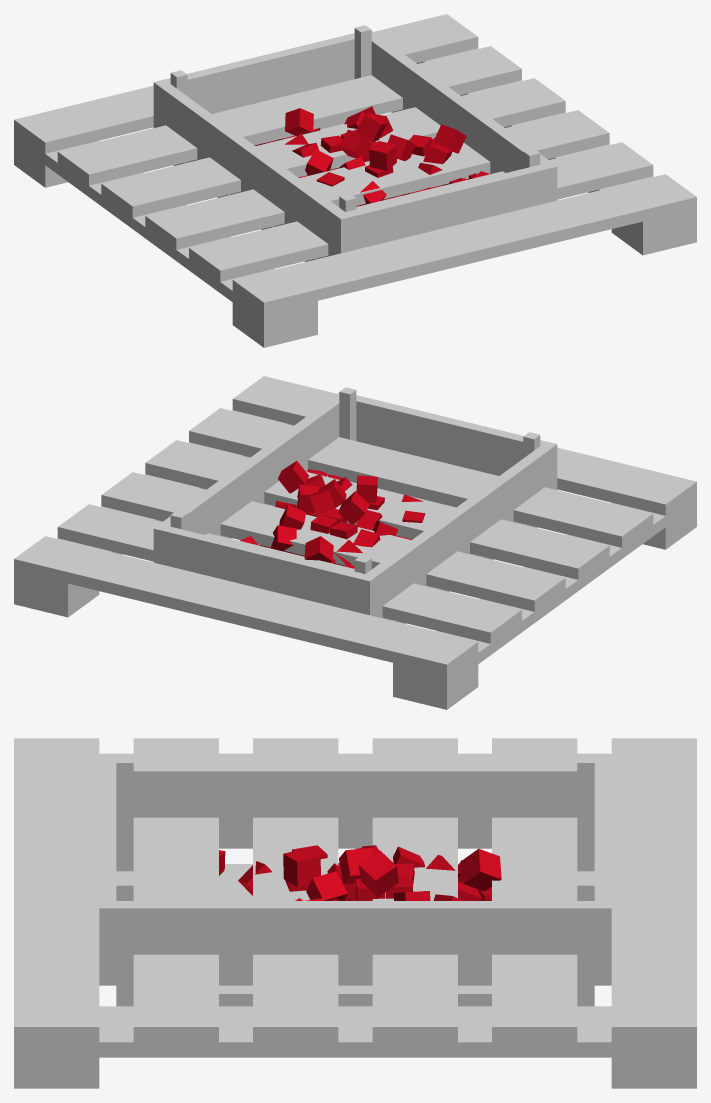
Rendered from crate_type6_7.fbx.
3 views of the same model, one above another, from view 1: azimuth 30°, elevation 25°; view 2: azimuth 150°, elevation 25°; view 3: azimuth 270°, elevation 25° (orthographic). The views are drawn at different scales.
Visible parts, largest first — view 1: Pallet, СrateType7, СrateType6Fruits, Fruits; view 2: Pallet, СrateType7, СrateType6Fruits, Fruits; view 3: Pallet, СrateType6Fruits, СrateType7, Fruits.
Part boxes in pixels (bbox=[...]): Pallet: bbox=[14, 14, 696, 347]; СrateType7: bbox=[153, 25, 557, 257]; СrateType6Fruits: bbox=[153, 39, 557, 261]; Fruits: bbox=[255, 106, 490, 206]; Pallet: bbox=[14, 376, 696, 709]; СrateType7: bbox=[153, 387, 557, 620]; СrateType6Fruits: bbox=[153, 401, 557, 623]; Fruits: bbox=[240, 461, 425, 568]; Pallet: bbox=[14, 738, 696, 1088]; СrateType6Fruits: bbox=[99, 778, 611, 1006]; СrateType7: bbox=[99, 755, 611, 985]; Fruits: bbox=[219, 845, 501, 900].
Size of the model in its own units: 400 by 80 by 400.
